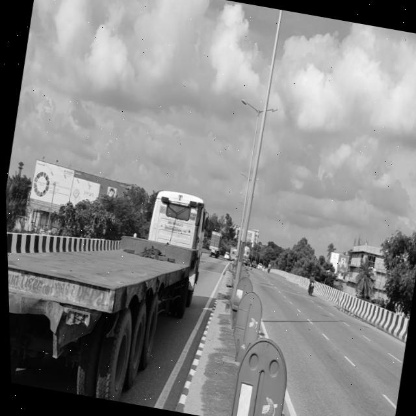truck: (2, 99, 226, 412)
